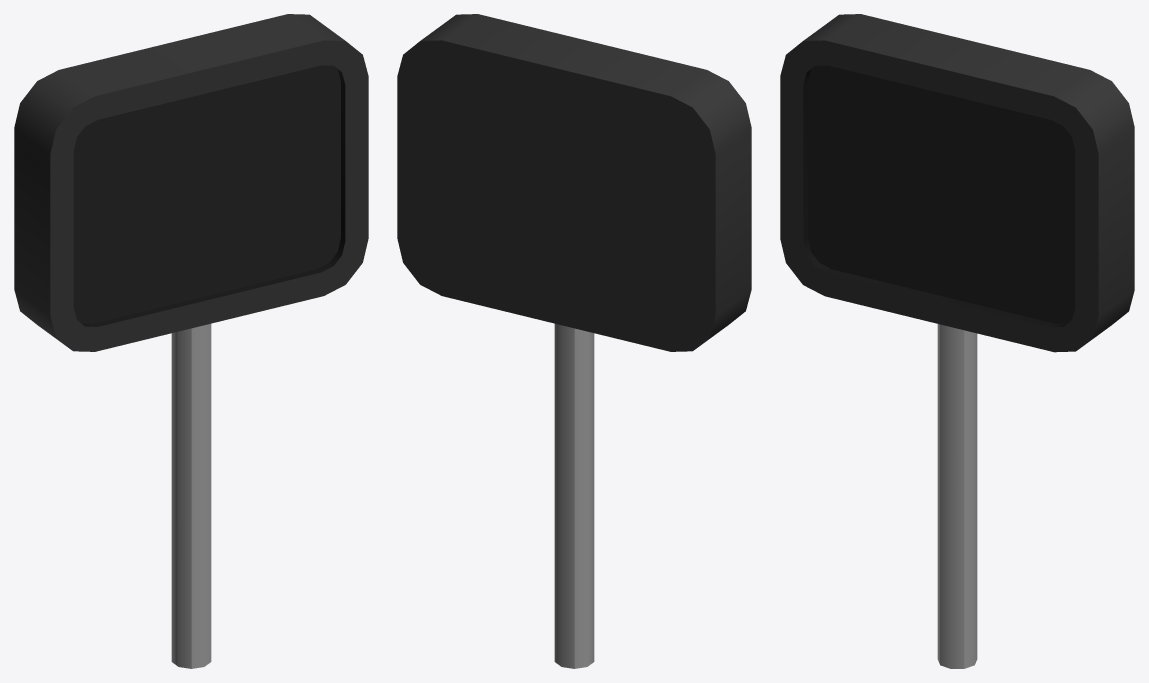
The model's file is M_Table.fbx.
3 views of the same model, side by side, from view 1: azimuth 30°, elevation 25°; view 2: azimuth 150°, elevation 25°; view 3: azimuth 330°, elevation 25° (orthographic).
Visible parts, largest first — view 1: M_Table; view 2: M_Table; view 3: M_Table.
Part boxes in pixels (box(x1,y1,x2,y2)): M_Table: box(14, 14, 368, 668); M_Table: box(397, 14, 751, 668); M_Table: box(780, 14, 1134, 668).
Size of the model in its own units: 1.23 by 2.24 by 0.2424.
Materials: 1 (1 with a texture image).
